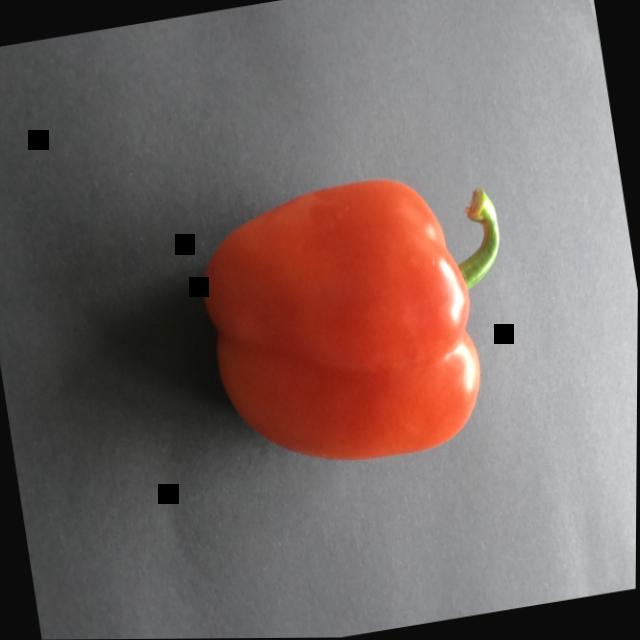Redpepper: (160, 104, 585, 516)
